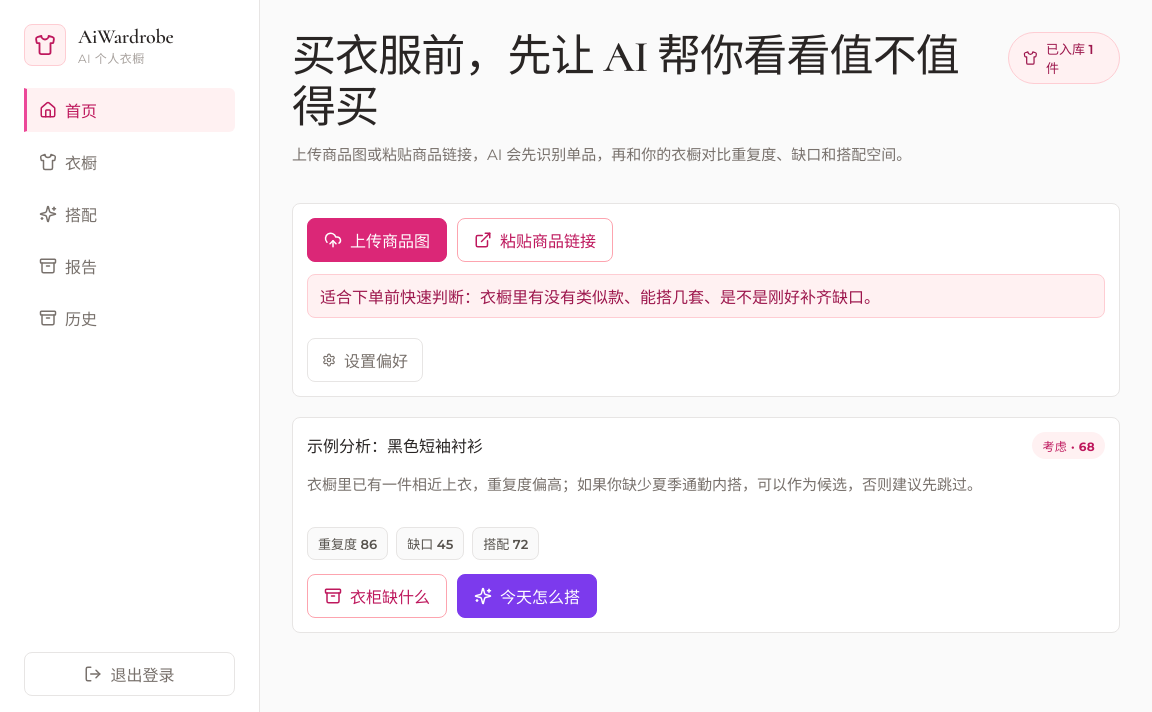
Test: AiWardrobe app › shopping recommendations show a readable rate limit message
This screenshot has width=1152, height=712.
Check: the heading "买衣服前，先让 AI 帮你看看值不值得买" is shown, box [292,32,990,133]
Click the button "报告". click: [130, 266]
box: [24,244,235,288]
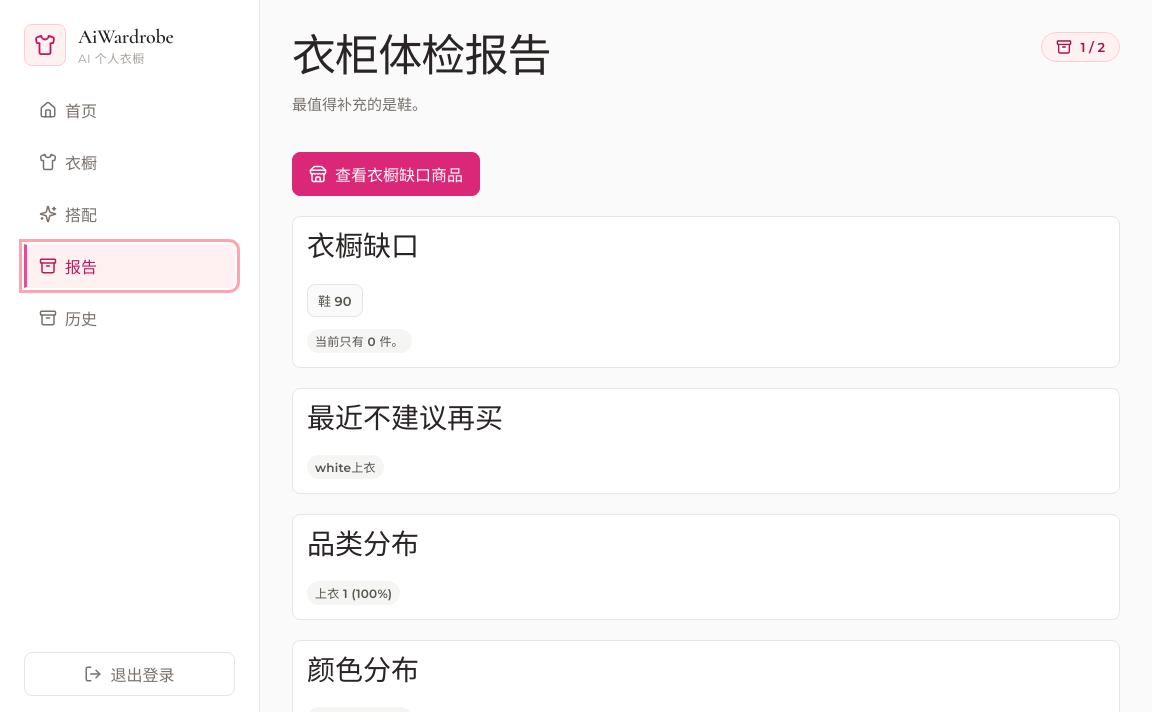
Click the button "查看衣橱缺口商品". click: [386, 174]
box: [292,152,480,196]
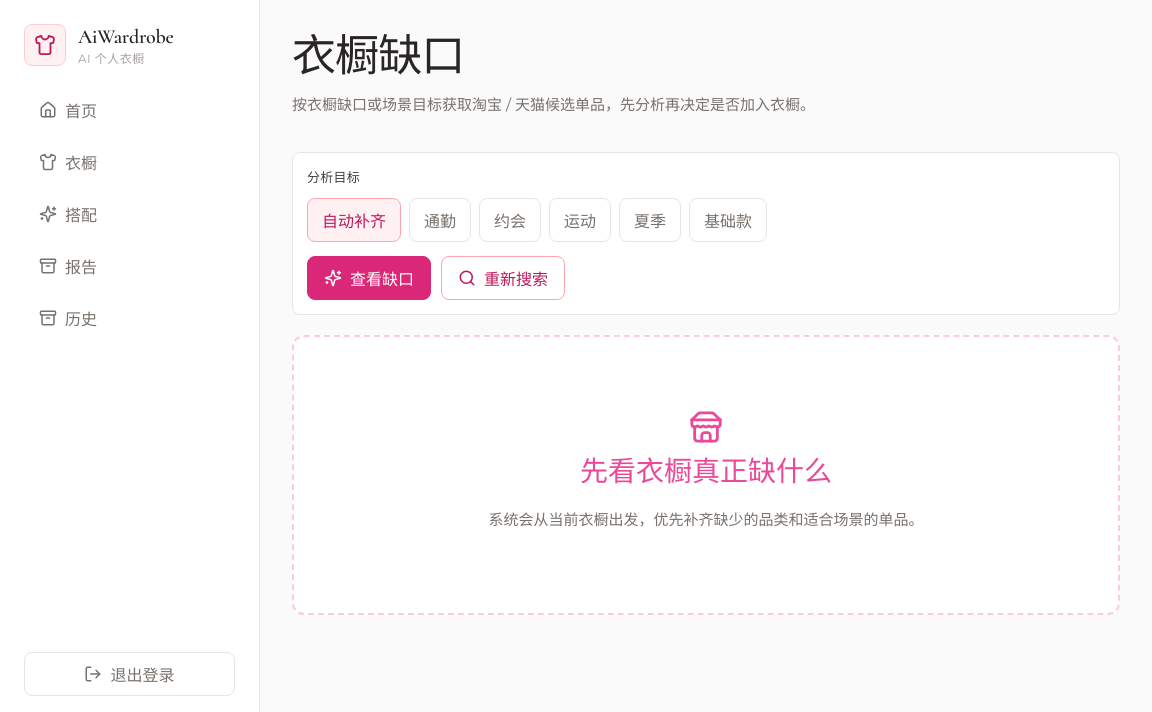
Check: the heading "衣橱缺口" is shown, box [292,30,464,84]
Click the button "查看缺口". click: [369, 278]
box: [307,256,431,300]
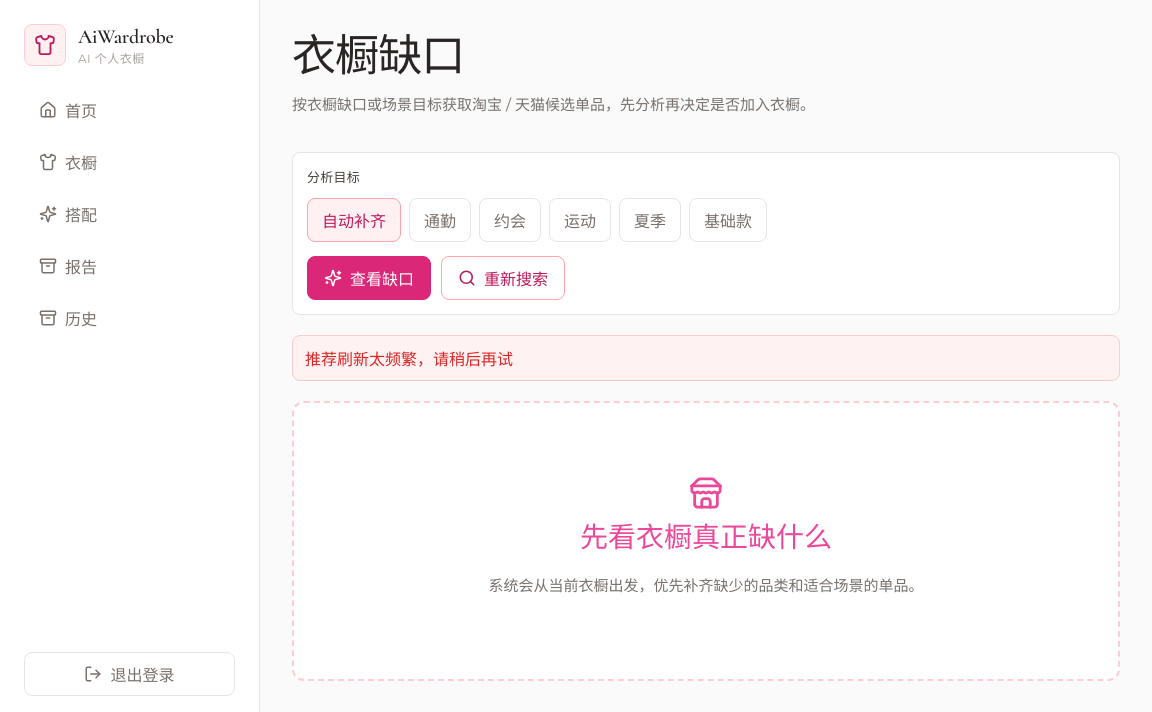
Check: the text "推荐刷新太频繁，请稍后再试" is shown, box [292,335,1120,381]
